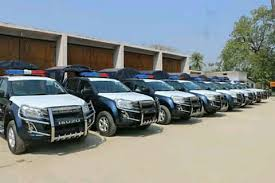policecar: (46, 64, 159, 138), (1, 69, 95, 155), (100, 67, 204, 125), (169, 75, 221, 115)
